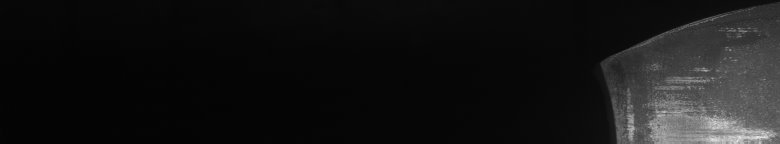kb: (593, 0, 760, 144)
